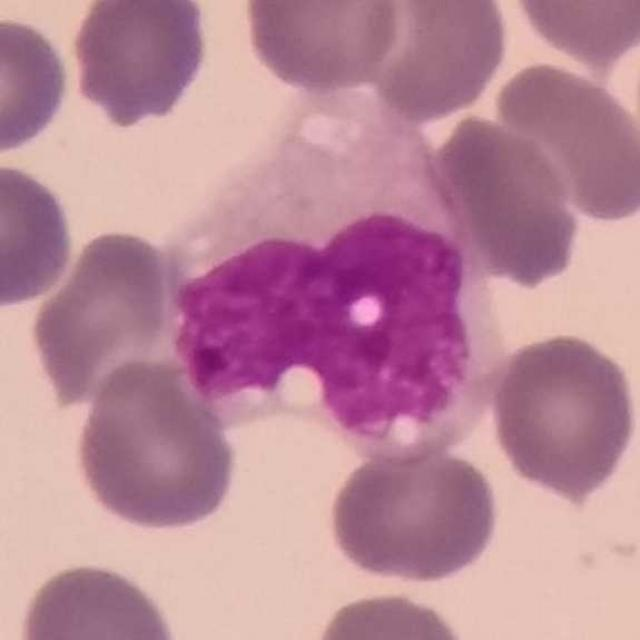mono: (161, 77, 509, 469)
